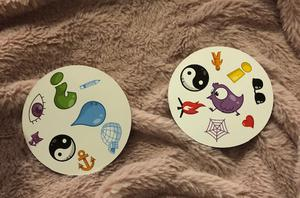ancre: (75, 147, 97, 172)
bonhomme: (208, 49, 225, 72)
bouche: (238, 112, 257, 129)
chat: (27, 128, 46, 148)
crayon: (77, 75, 102, 90)
feu: (174, 96, 208, 119)
goutte: (71, 99, 108, 127)
igloo: (99, 120, 121, 155)
lunette: (247, 75, 268, 109)
oeuil: (26, 93, 48, 125)
oiseau: (206, 82, 246, 115)
point_exclamation: (226, 59, 253, 84)
point_interrogation: (48, 71, 77, 111)
toile: (202, 115, 231, 142)
ying_yang: (177, 60, 210, 93), (48, 132, 76, 162)
